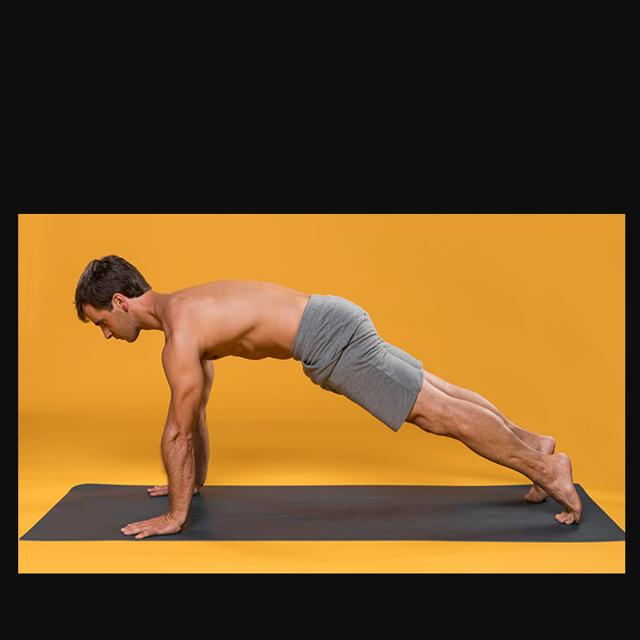Plank_Pose: (67, 253, 587, 539)
